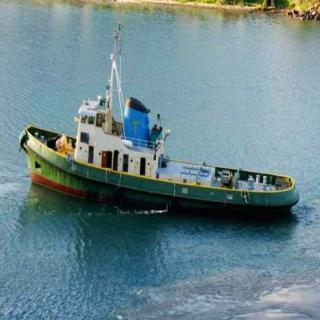Tug Boat: (18, 38, 298, 214)
